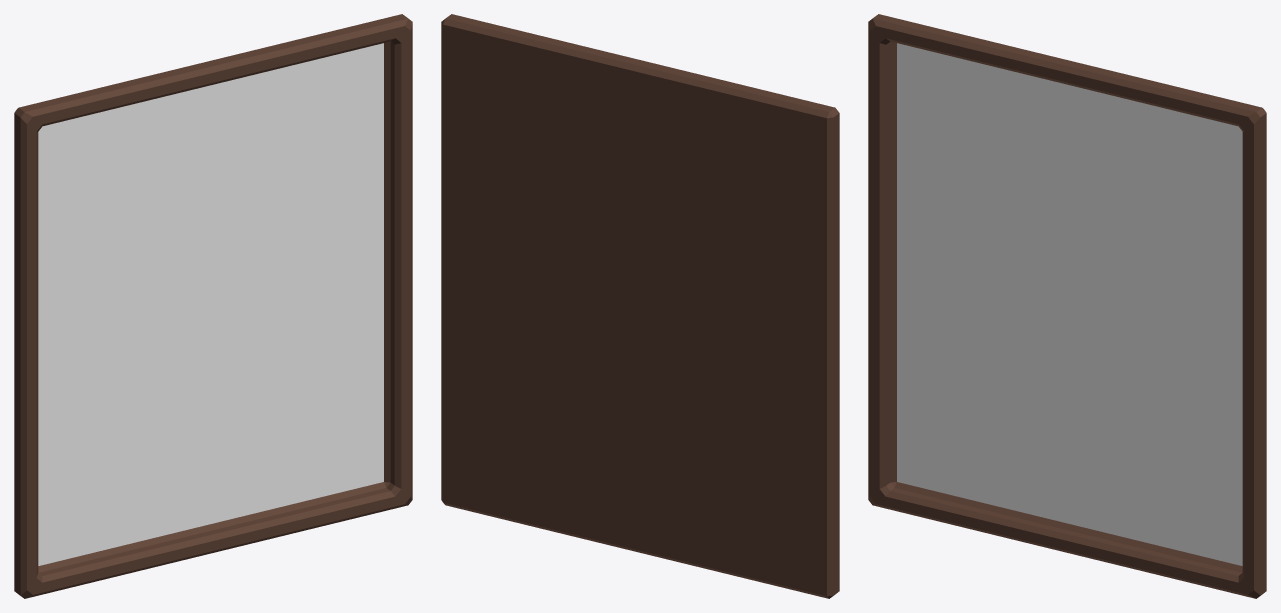
The model's file is SquareMirror.glb.
3 renders of one model, left to right at view 1: azimuth 30°, elevation 25°; view 2: azimuth 150°, elevation 25°; view 3: azimuth 330°, elevation 25°, orthographic.
Visible parts, largest first — view 1: Square Mirror; view 2: Square Mirror; view 3: Square Mirror.
Boxes of the visible parts, box(x1,y1,x2,y2) form: Square Mirror: box(14, 14, 412, 598); Square Mirror: box(441, 14, 839, 598); Square Mirror: box(868, 14, 1266, 598).
Size of the model in its own units: 0.8367 by 0.9927 by 0.0404.
